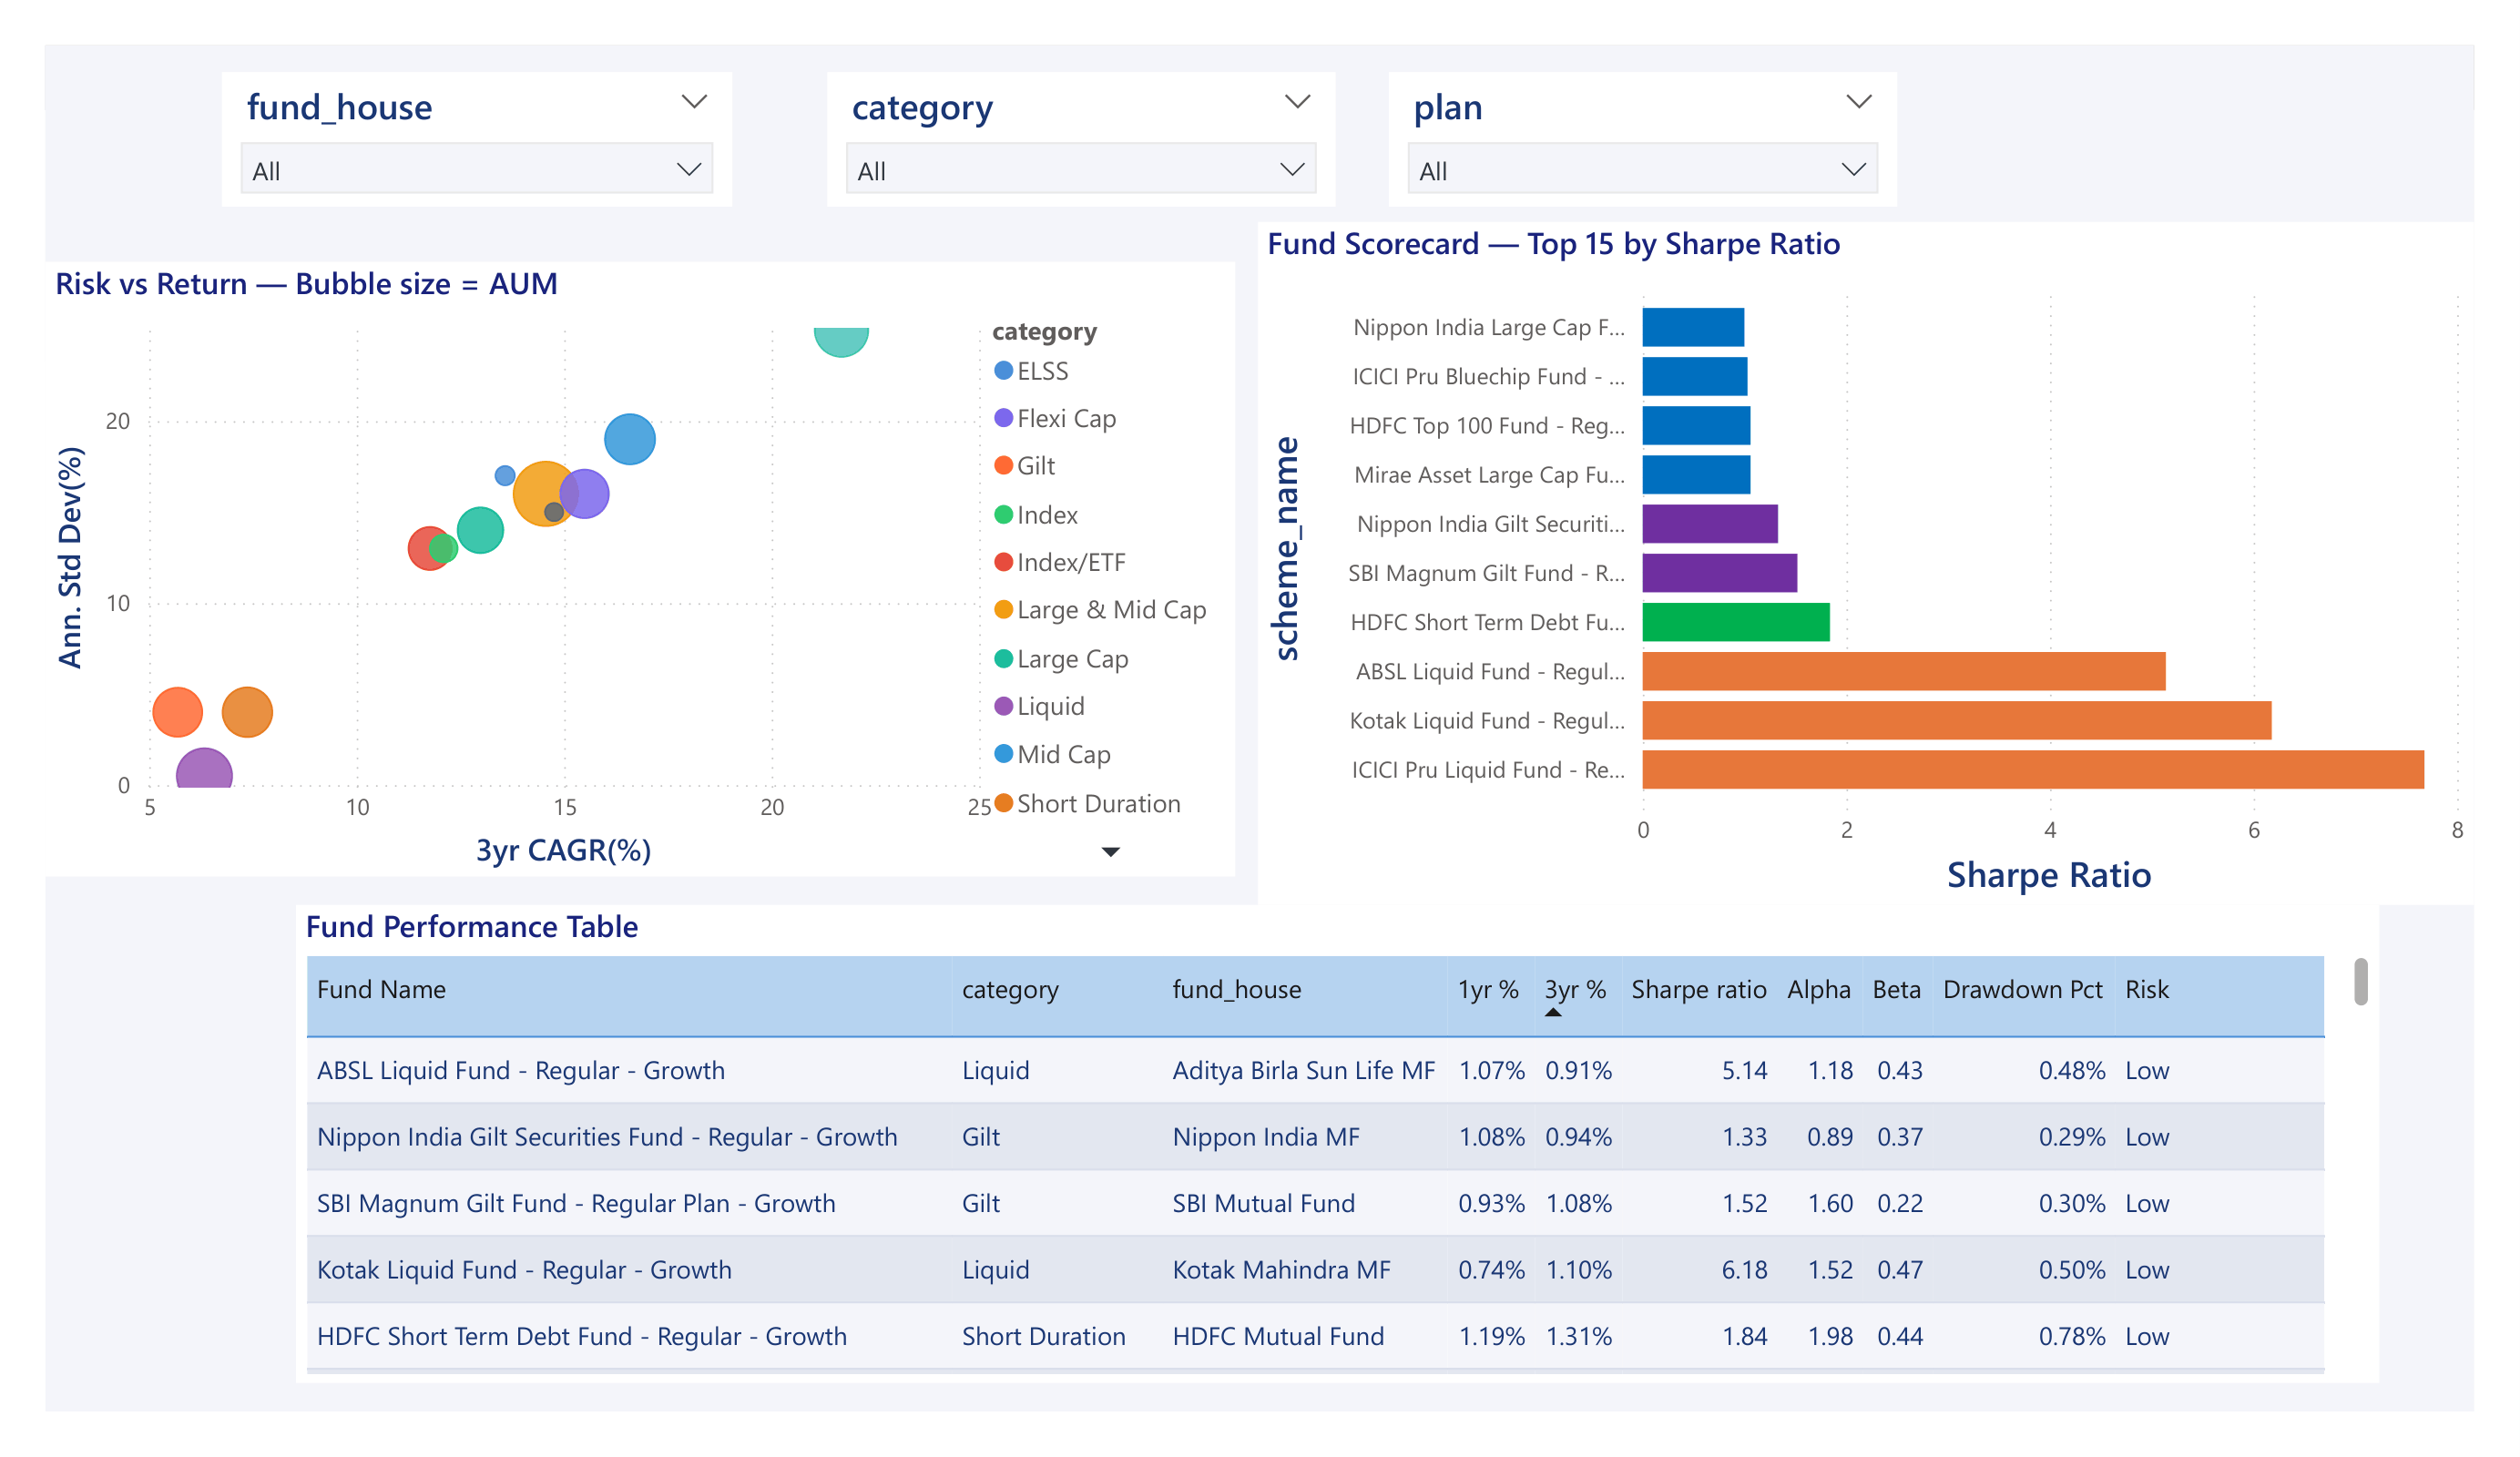

This screenshot's page, from the dashboard's own definition file:
{"tool":"powerbi","page":{"name":"Fund Performance","canvas":[1280,720],"ordinal":1},"visuals":[{"type":"scatterChart","title":"Risk vs Return — Bubble size = AUM","fields":{"X":["Avg(07_scheme_performance_clean.return_3yr_pct)"],"Y":["Avg(07_scheme_performance_clean.std_dev_ann_pct)"],"Size":["Avg(07_scheme_performance_clean.aum_crore)"],"Series":["07_scheme_performance_clean.category"]},"box":[0,113.9,627.1,323.8],"z":0},{"type":"clusteredBarChart","title":"Fund Scorecard — Top 15 by Sharpe Ratio","fields":{"Y":["Avg(07_scheme_performance_clean.sharpe_ratio)"],"Category":["07_scheme_performance_clean.scheme_name"]},"box":[639.5,93.3,640.8,359.5],"z":1000},{"type":"tableEx","title":"Fund Performance Table","fields":{"Values":["07_scheme_performance_clean.scheme_name","07_scheme_performance_clean.category","07_scheme_performance_clean.fund_house","Sum(07_scheme_performance_clean.return_1yr_pct)","Sum(07_scheme_performance_clean.return_3yr_pct)","Avg(07_scheme_performance_clean.sharpe_ratio)","Avg(07_scheme_performance_clean.alpha)","Avg(07_scheme_performance_clean.beta)","Sum(07_scheme_performance_clean.max_drawdown_pct)","07_scheme_performance_clean.risk_grade"]},"box":[131.7,452.8,1097.8,252.5],"z":2000},{"type":"slicer","fields":{"Values":["07_scheme_performance_clean.fund_house"]},"box":[93.3,13.7,269,71.4],"z":3000},{"type":"slicer","title":"Cs","fields":{"Values":["07_scheme_performance_clean.category"]},"box":[411.7,13.7,268,71.4],"z":4000},{"type":"slicer","fields":{"Values":["07_scheme_performance_clean.plan"]},"box":[708.1,13.7,268,71],"z":5000}]}

Visuals, with their boxes on the page's 1280x720 design canvas (x1, y1, x2, y2). These are canvas units, not pixel positions in the 2520x1457 screenshot, which may show the page scaled, cropped or inside an application window:
"Risk vs Return — Bubble size = AUM" scatterChart: 0,114,627,438
"Fund Scorecard — Top 15 by Sharpe Ratio" clusteredBarChart: 640,93,1280,453
"Fund Performance Table" tableEx: 132,453,1230,705
slicer - 07_scheme_performance_clean.fund_house: 93,14,362,85
"Cs" slicer: 412,14,680,85
slicer - 07_scheme_performance_clean.plan: 708,14,976,85
